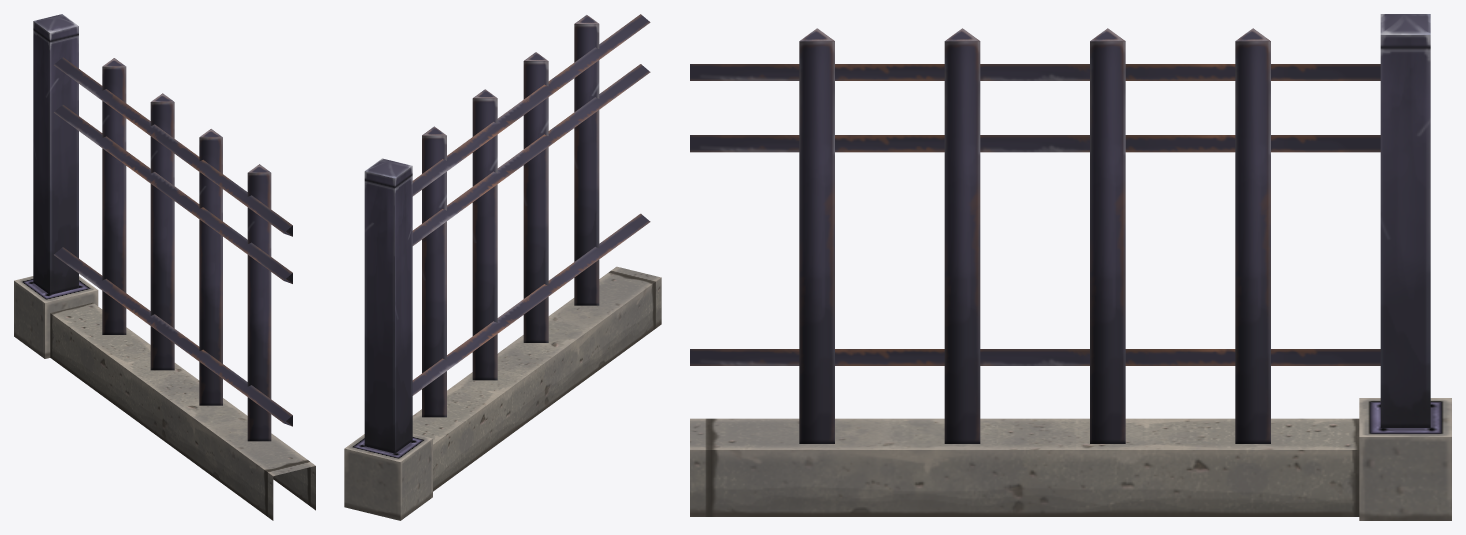
File: fence_iron.fbx
The picture shows the model from 3 angles, left to right: view 1: azimuth 30°, elevation 25°; view 2: azimuth 150°, elevation 25°; view 3: azimuth 270°, elevation 25°; orthographic projection. The views are drawn at different scales.
Visible parts, largest first — view 1: fence_iron; view 2: fence_iron; view 3: fence_iron.
Part boxes in pixels (left/top/right/bottom): fence_iron: left=14, top=14, right=315, bottom=520; fence_iron: left=344, top=14, right=661, bottom=520; fence_iron: left=690, top=14, right=1451, bottom=520.
Bounding box in the file's own units: 25 × 145 × 206.
